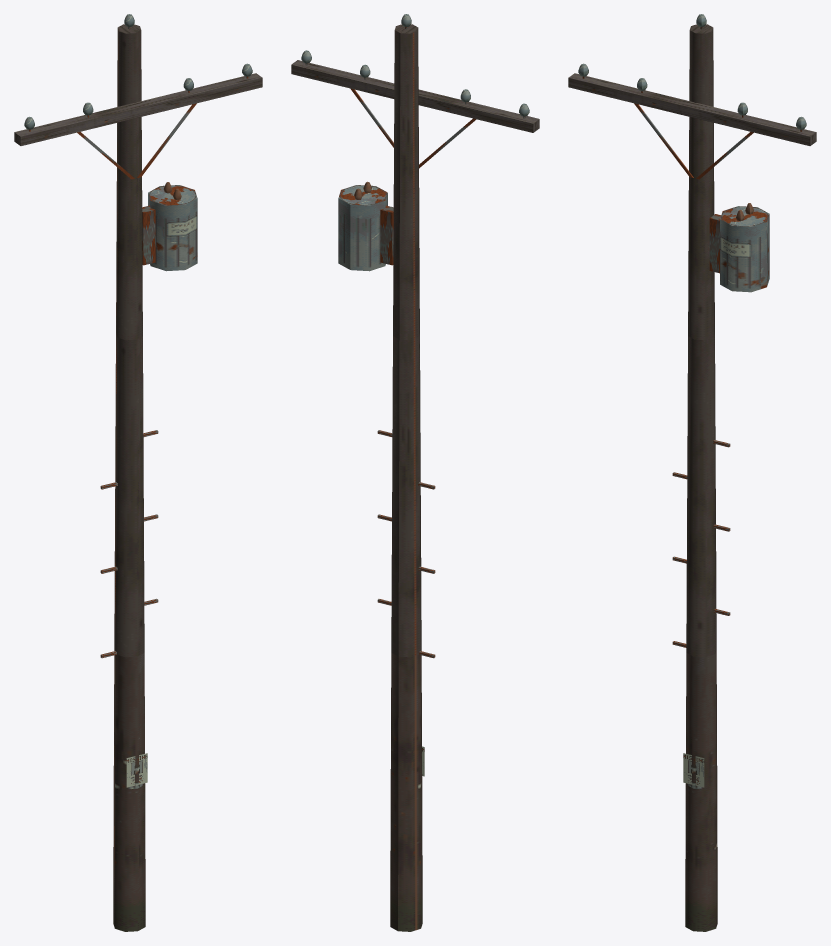
The model's file is utility_pole.obj.
3 renders of one model, left to right at view 1: azimuth 30°, elevation 25°; view 2: azimuth 150°, elevation 25°; view 3: azimuth 330°, elevation 25°, orthographic.
Visible parts, largest first — view 1: utility_pole; view 2: utility_pole; view 3: utility_pole.
Boxes of the visible parts, left/top/right/bottom form: utility_pole: left=14, top=14, right=262, bottom=931; utility_pole: left=291, top=14, right=539, bottom=931; utility_pole: left=568, top=14, right=816, bottom=931.
Bounding box in the file's own units: 2.4 × 8.63 × 0.44.
1 material, 1 textured.
